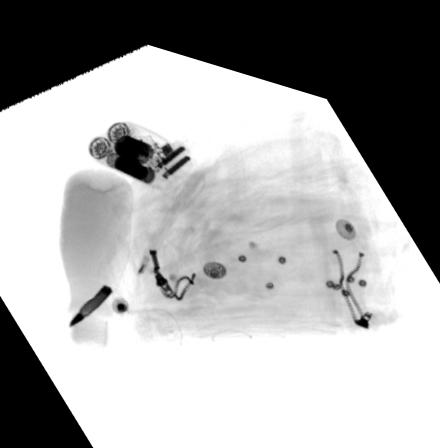Bullet: (68, 275, 113, 323)
